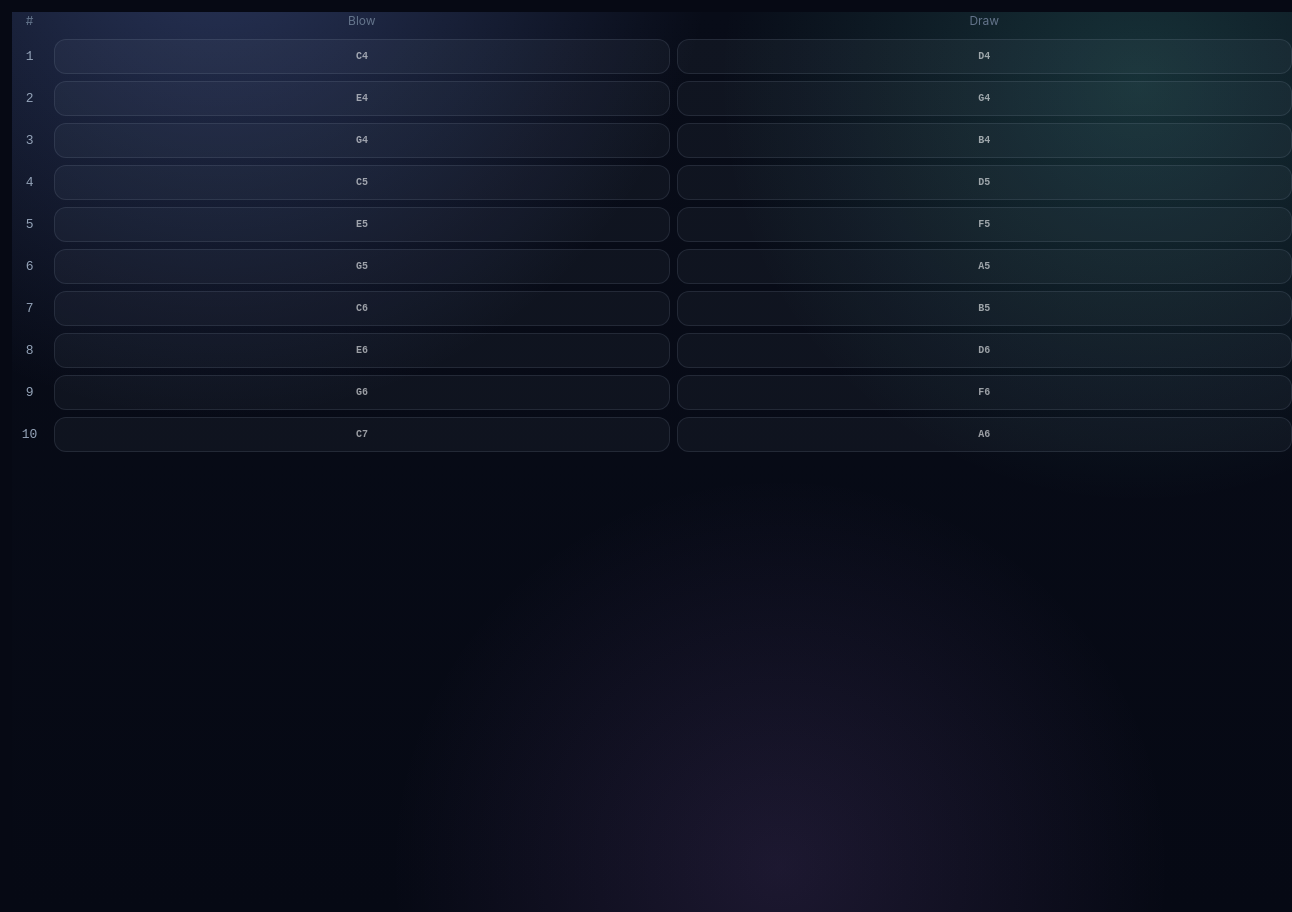
HarmonicaPanel › clicking the same hole again releases the target back to auto
What coordinates should you click on to do the following:
click the button with class "harmonica-cell" showing "C4"
I would click on:
 (362, 56)
Its box is [54,39,670,74].
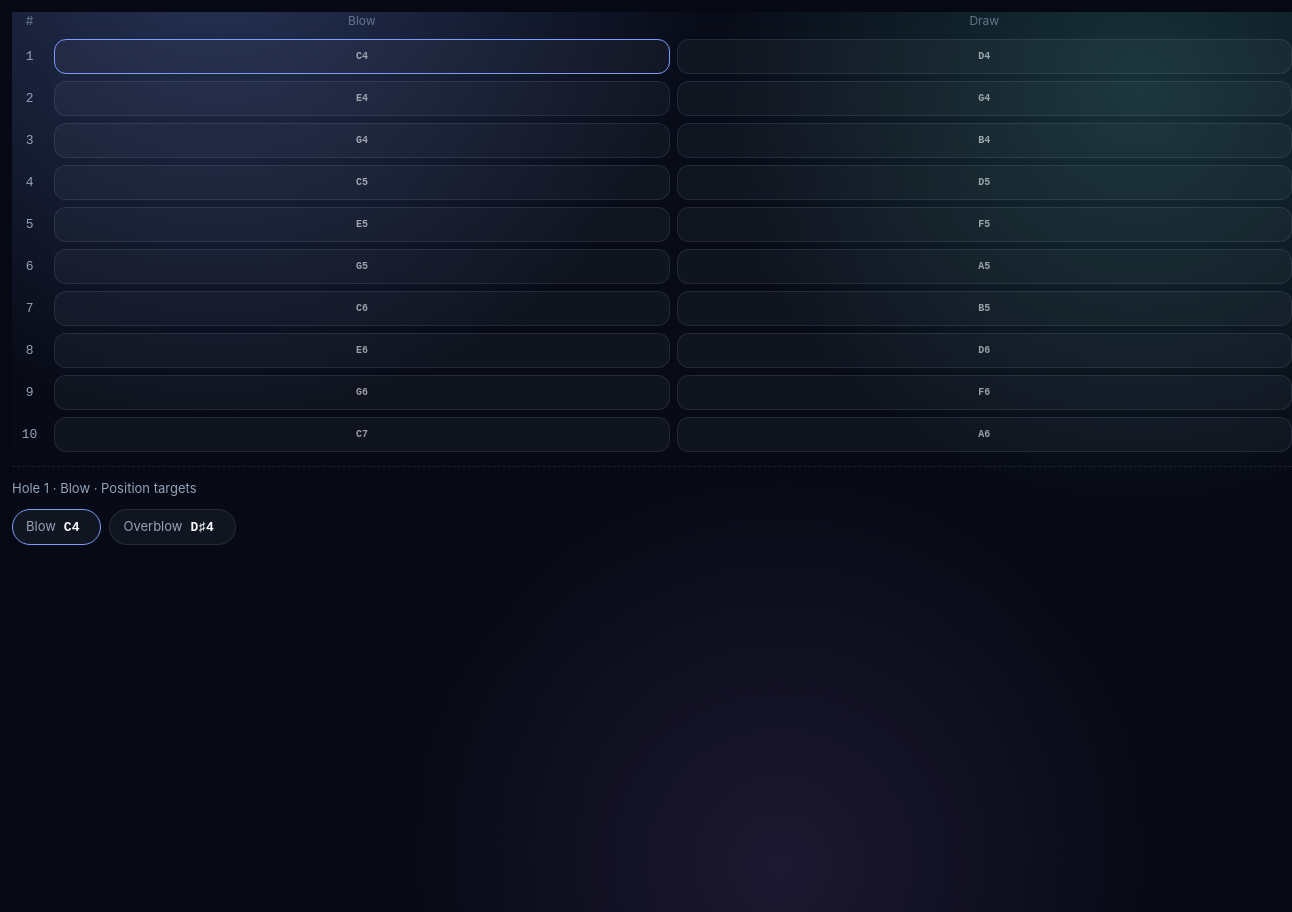
What coordinates should you click on to do the following:
click the button with class "harmonica-cell" showing "C4"
I would click on:
 (362, 56)
Its box is [54,39,670,74].
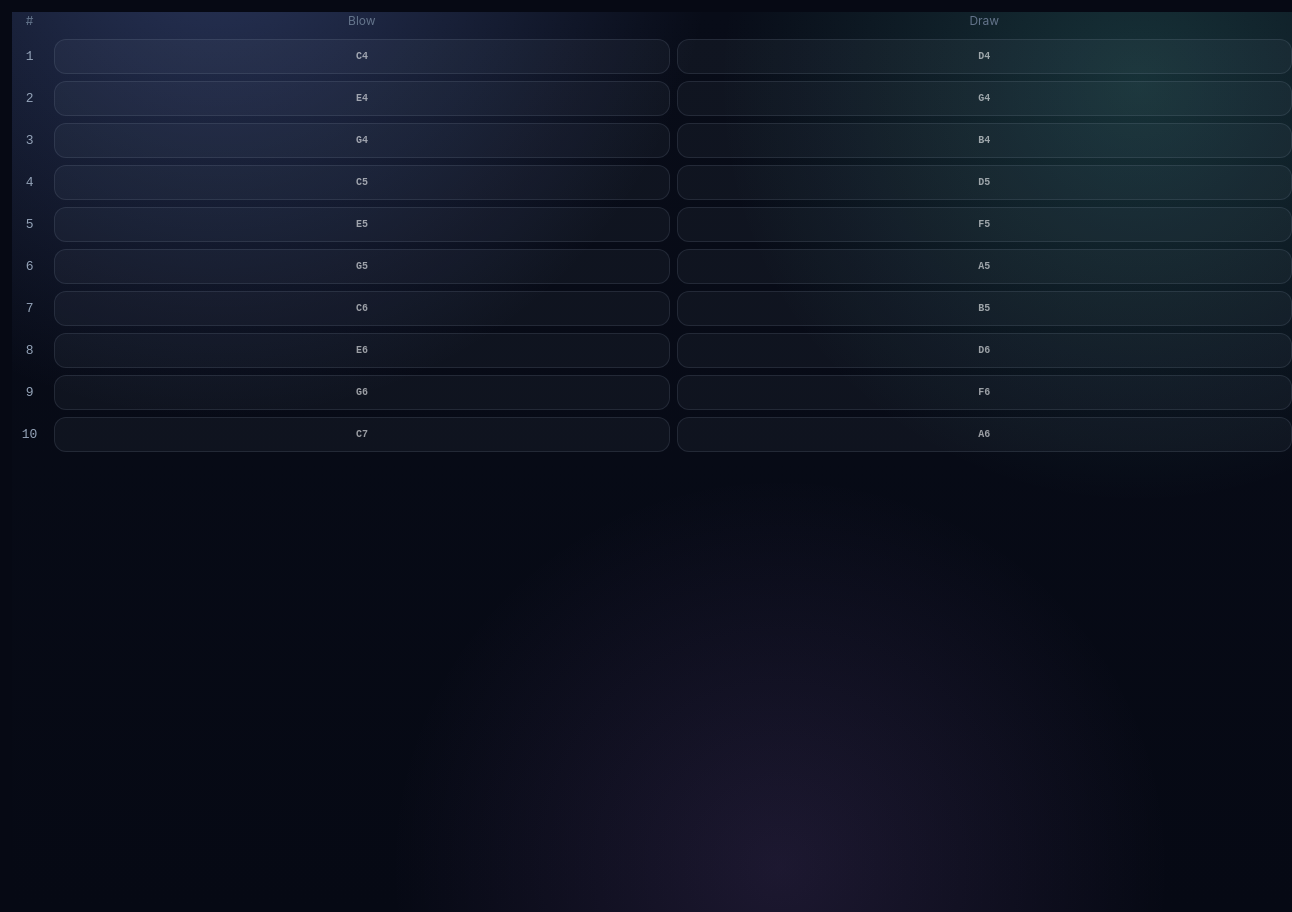
Check: no buttons are shown
